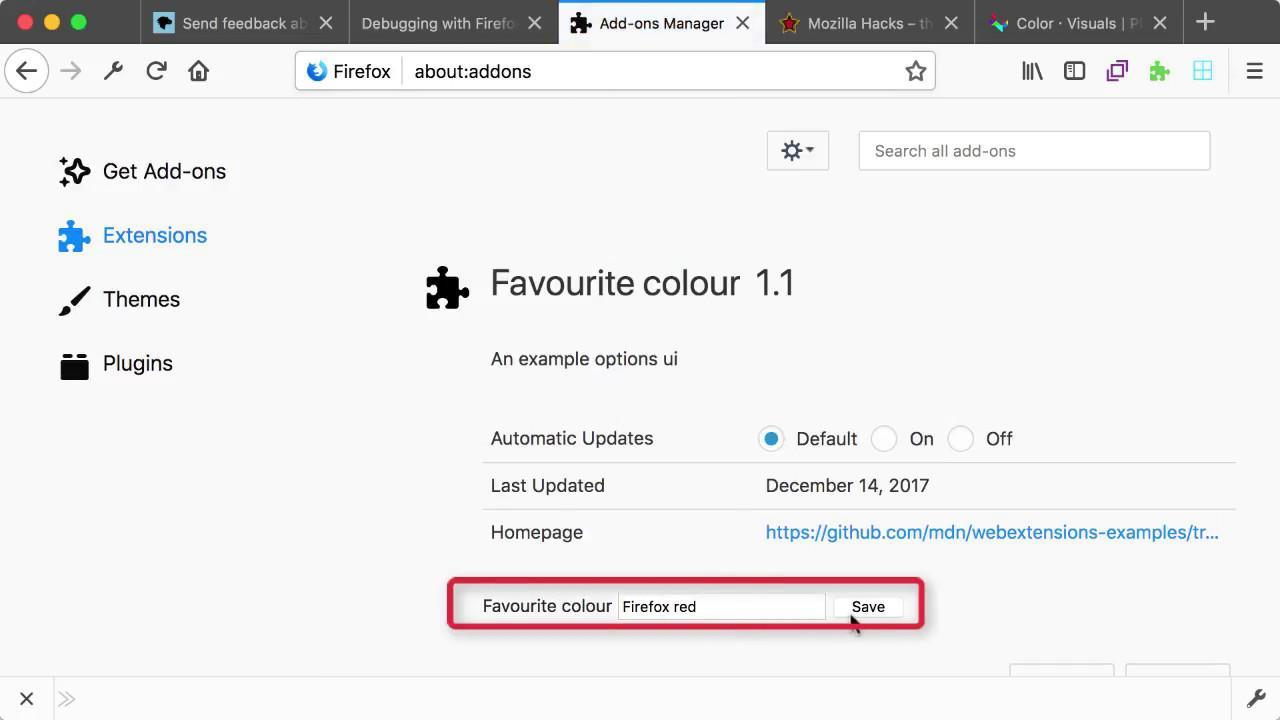button: (833, 598, 904, 619)
icon: (419, 262, 473, 321), (52, 153, 93, 193), (52, 220, 92, 260), (58, 285, 95, 325), (60, 350, 93, 390), (1059, 58, 1091, 88), (1240, 685, 1271, 713), (186, 58, 215, 87), (1191, 57, 1218, 88), (1244, 54, 1270, 86), (778, 138, 808, 165), (1019, 59, 1049, 86), (903, 56, 931, 84), (144, 58, 172, 85), (56, 60, 88, 83), (1105, 58, 1132, 85), (1147, 60, 1173, 87), (101, 60, 125, 84)
input: (296, 50, 940, 94), (861, 133, 1211, 172), (619, 593, 826, 619)
label: (102, 159, 232, 185), (103, 224, 211, 250), (102, 285, 182, 316), (102, 353, 179, 380), (796, 427, 860, 452), (984, 426, 1027, 452), (903, 428, 934, 449)
radio: (871, 424, 901, 458), (945, 422, 975, 455), (759, 423, 789, 454)
